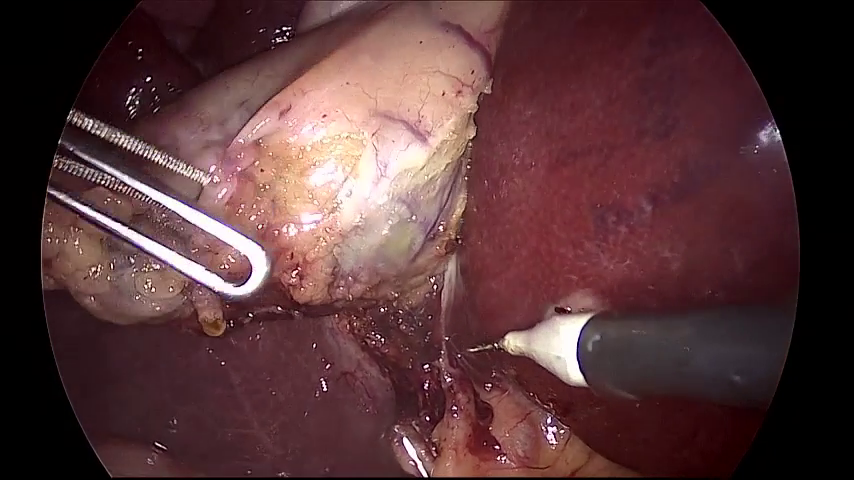grasper: (47, 110, 267, 294)
lhook: (467, 306, 796, 411)
